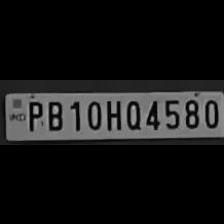0: (84, 96, 103, 130), (201, 96, 221, 127)
1: (65, 97, 83, 131)
4: (142, 96, 160, 128)
5: (161, 96, 181, 128)
8: (182, 96, 200, 128)
B: (44, 97, 64, 131)
H: (104, 96, 122, 130)
P: (23, 97, 43, 131)
Q: (122, 96, 142, 130)
